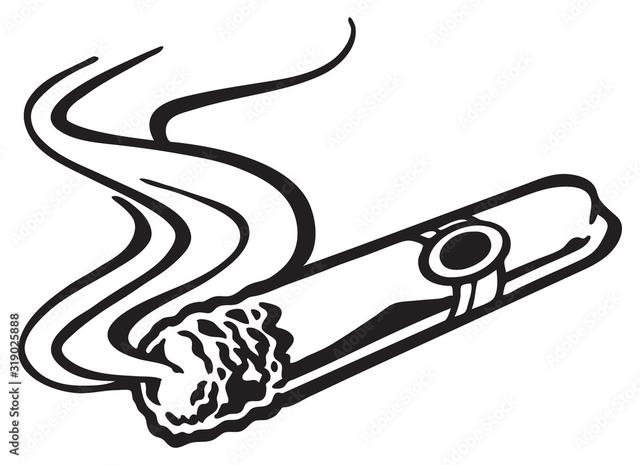Cigar: (17, 14, 623, 447)
